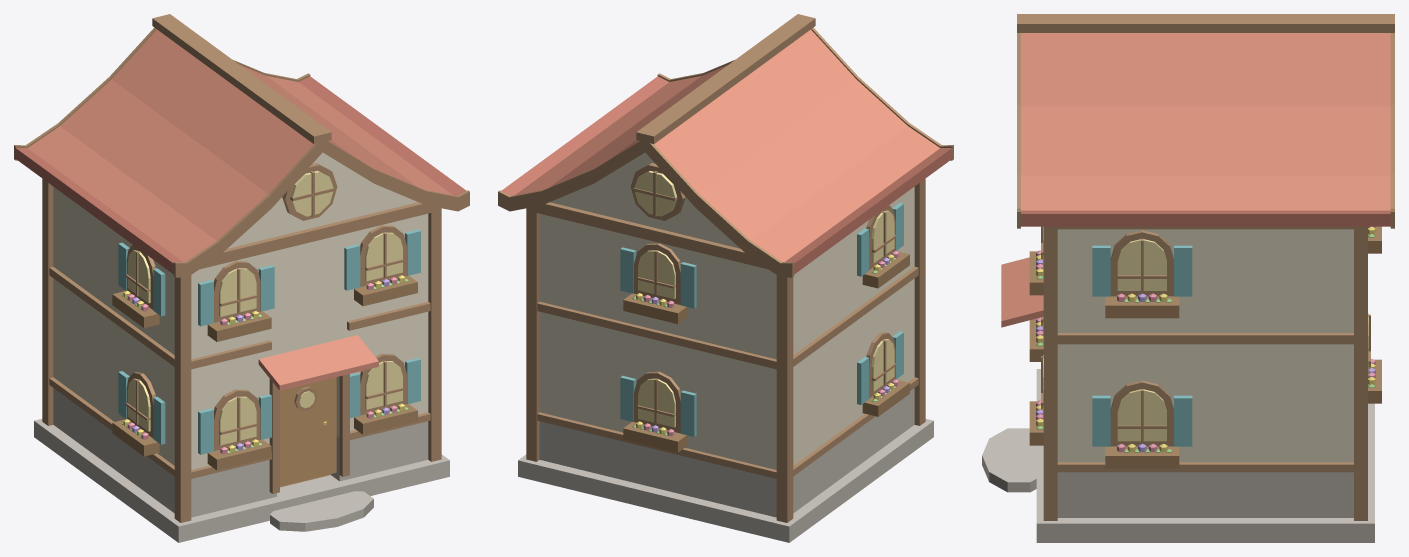
Rendered from townhouse_cream.glb.
3 renders of one model, left to right at view 1: azimuth 30°, elevation 25°; view 2: azimuth 150°, elevation 25°; view 3: azimuth 270°, elevation 25°, orthographic. The views are drawn at different scales.
Parts seen in each view (by area): view 1: Player; view 2: Player; view 3: Player.
Part boxes in pixels (left/top/right/bottom): Player: left=14, top=14, right=469, bottom=542; Player: left=498, top=14, right=953, bottom=542; Player: left=982, top=14, right=1394, bottom=542.
Size of the model in its own units: 5.64 by 6.99 by 5.85.
